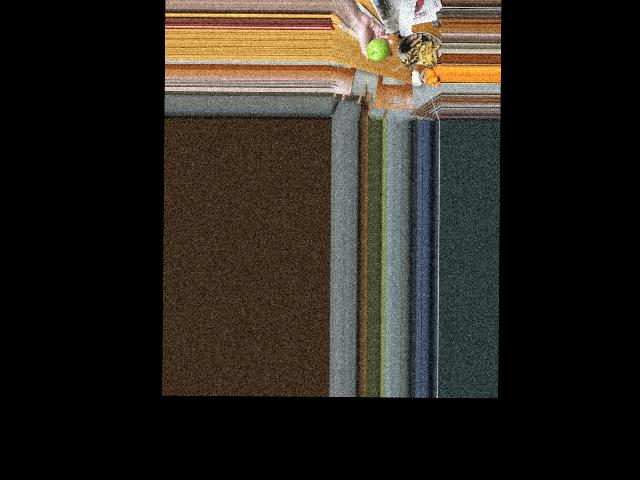apple: (365, 37, 389, 63)
